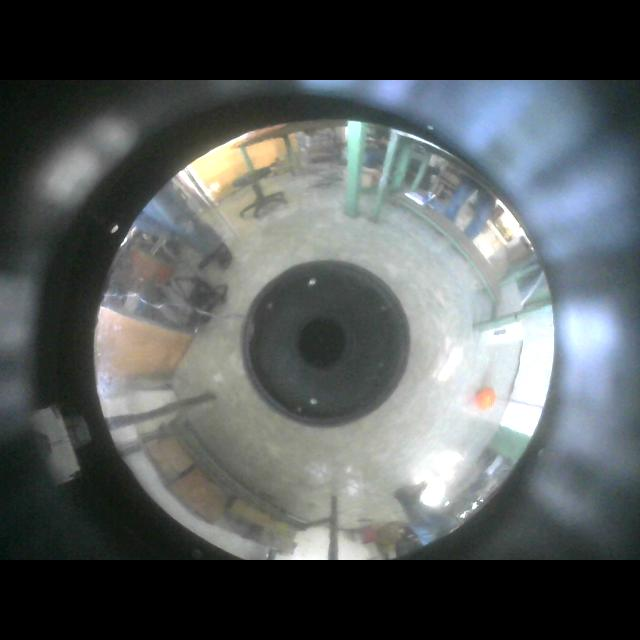bola: (475, 386, 494, 410)
